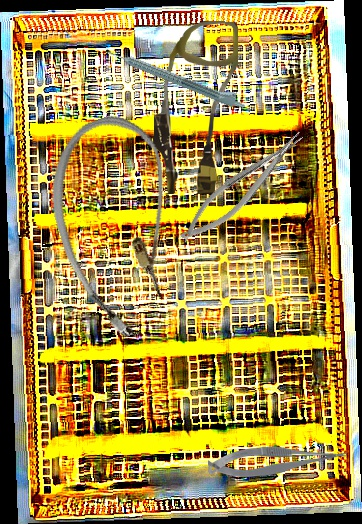Cannula: (31, 105, 207, 347), (152, 20, 239, 195)
Handpiece: (105, 40, 249, 113)
Micro Scissor: (208, 446, 347, 478)
Needle Holder: (170, 125, 315, 251)
